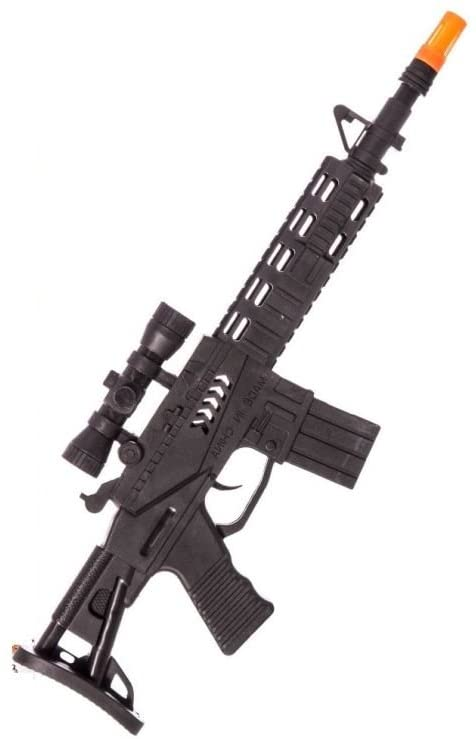Arma Falsa: (24, 10, 475, 738)
